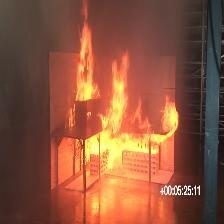fire: (61, 2, 180, 193)
